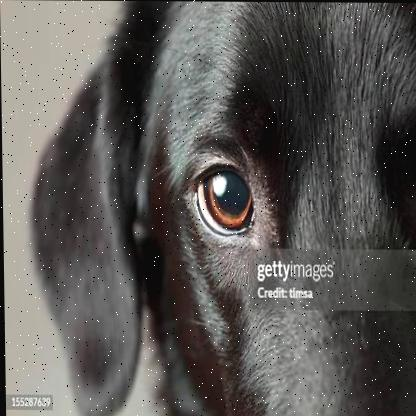dog: (21, 1, 416, 416)
